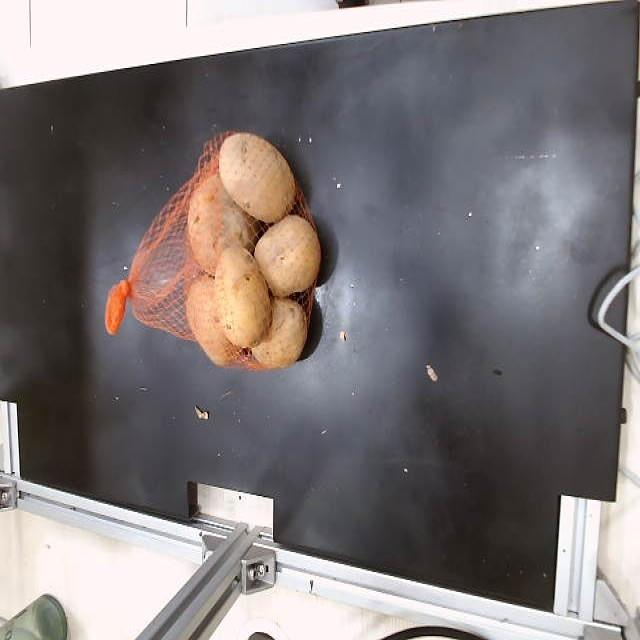potato: (188, 173, 258, 274), (219, 133, 296, 222), (215, 247, 271, 348), (255, 215, 321, 297), (251, 298, 308, 368)
